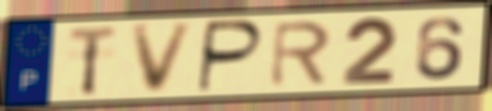2: (340, 15, 402, 88)
6: (415, 15, 467, 82)
P: (194, 18, 268, 95)
R: (267, 19, 334, 90)
T: (66, 23, 120, 99)
V: (128, 19, 199, 97)
